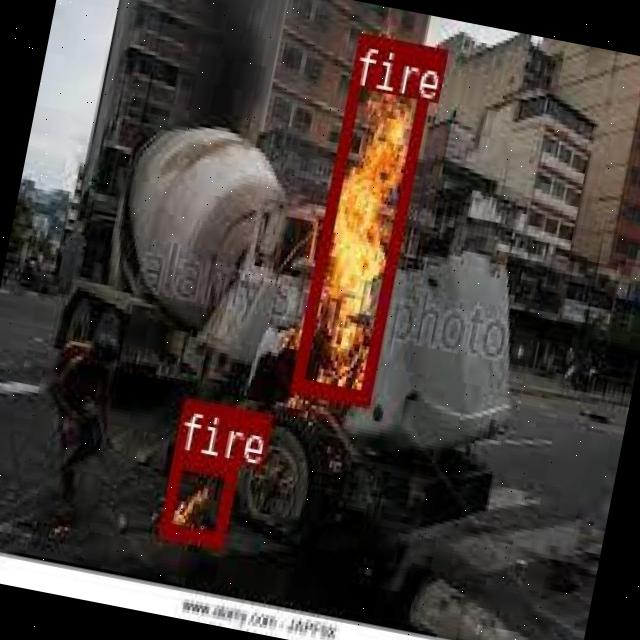fire: (288, 30, 436, 405), (158, 448, 236, 544)
